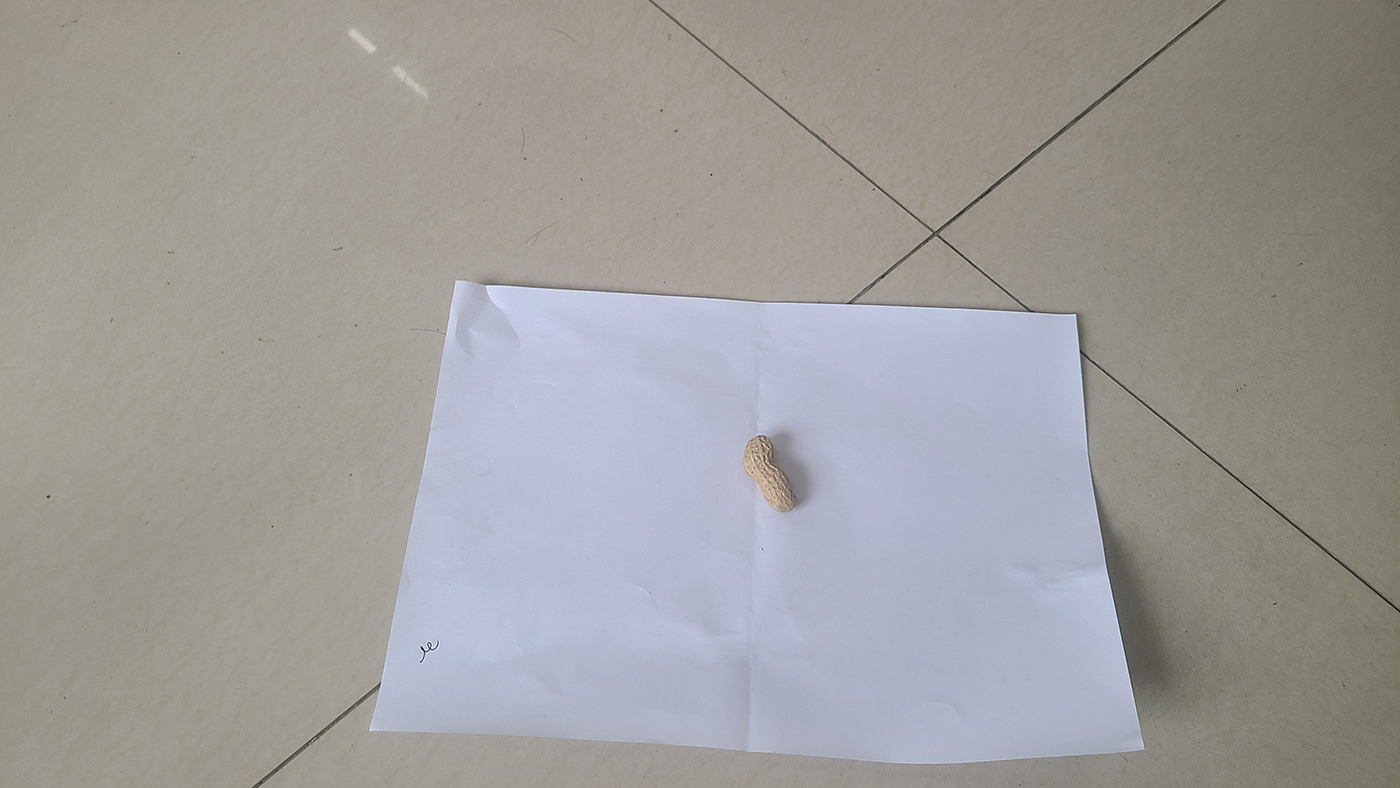h: (743, 434, 797, 513)
